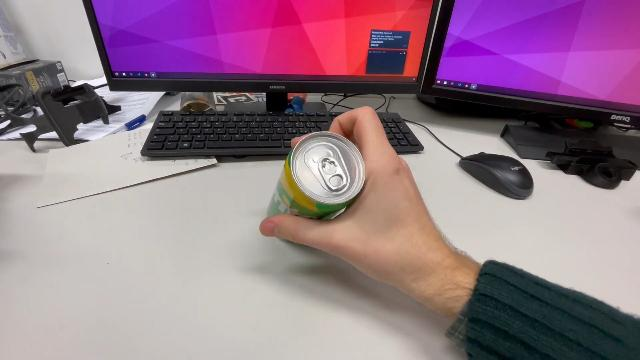Sprite: (259, 129, 367, 248)
